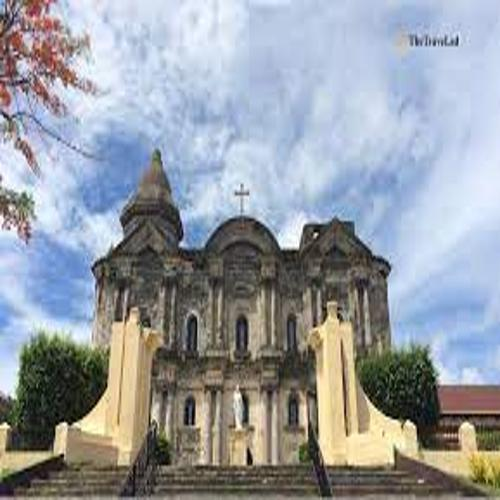Taal Basilica Church: (80, 142, 415, 472)
